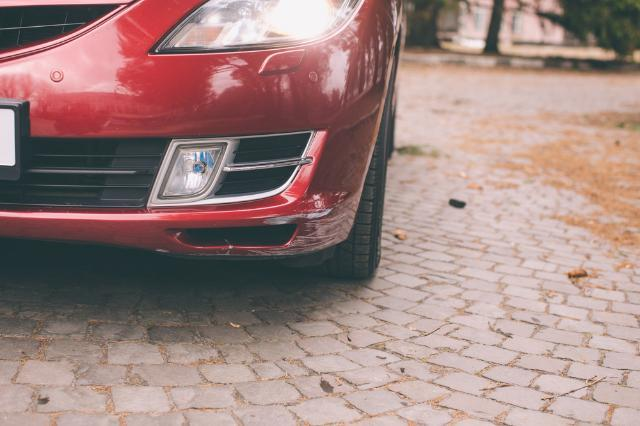scratch: (238, 196, 359, 259)
